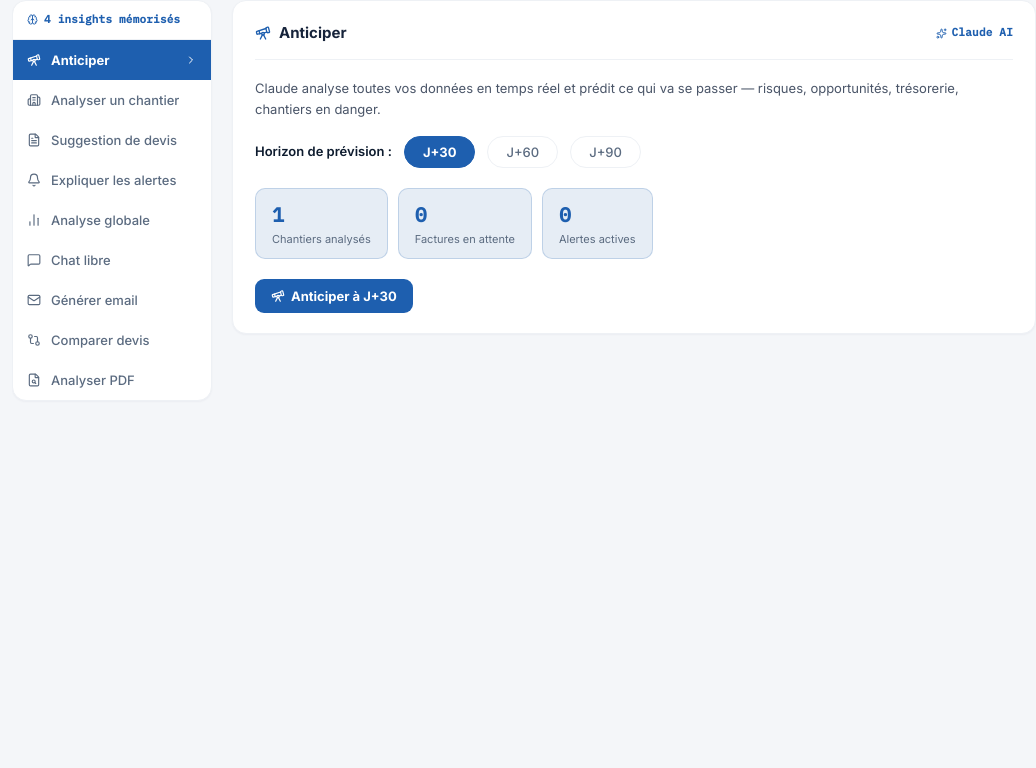
plafond HTTP › mémoire inchangée après condensation refusée
The image size is (1036, 768).
Step 1. Click the button "Chat libre" → (112,260), box [13,240,211,280]
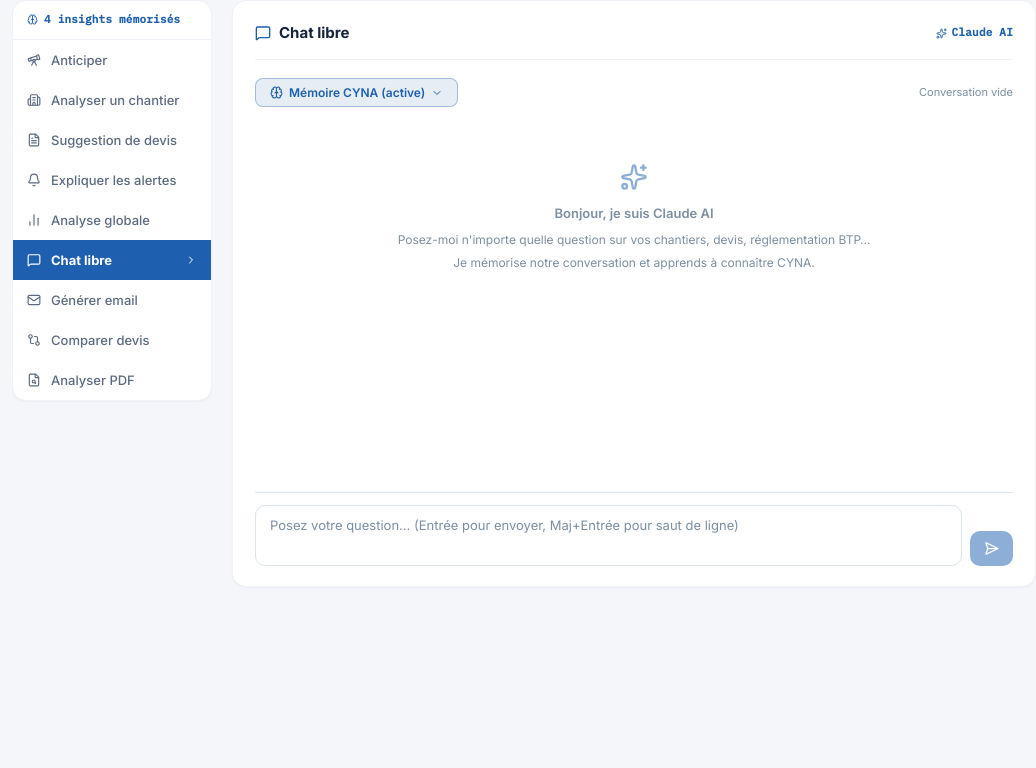
Step 2. Click the button "Mémoire CYNA (active)" → (357,92), box [255,78,458,107]
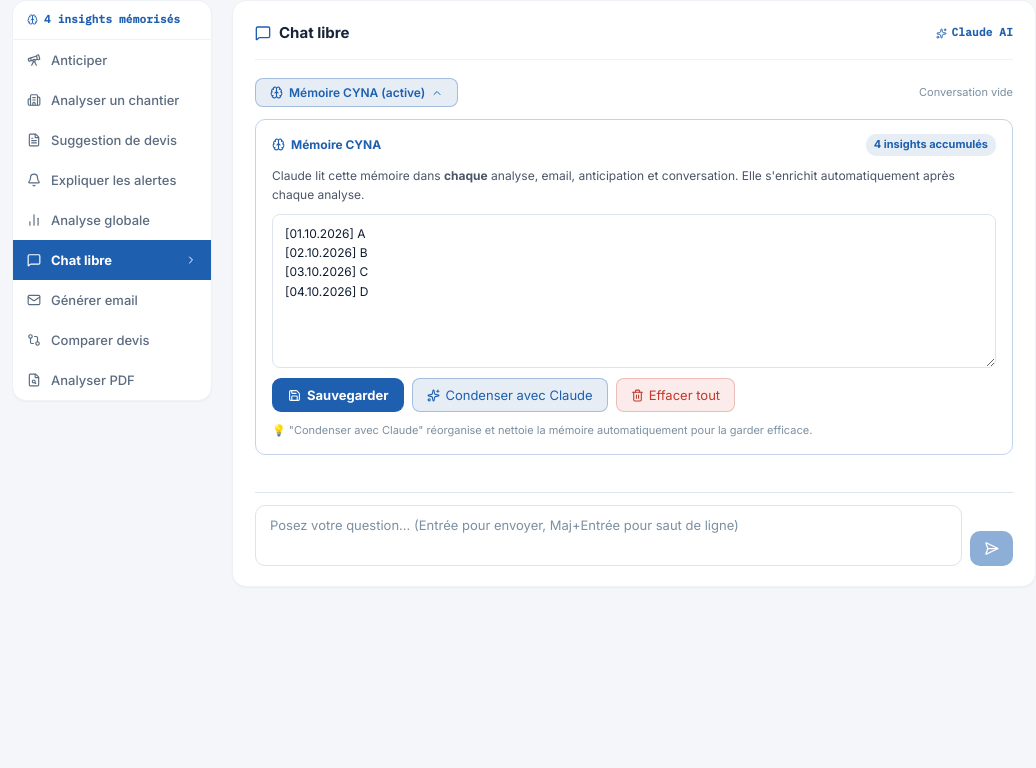
Step 3. Click the button "Condenser avec Claude" → (510,395), box [412,378,608,412]
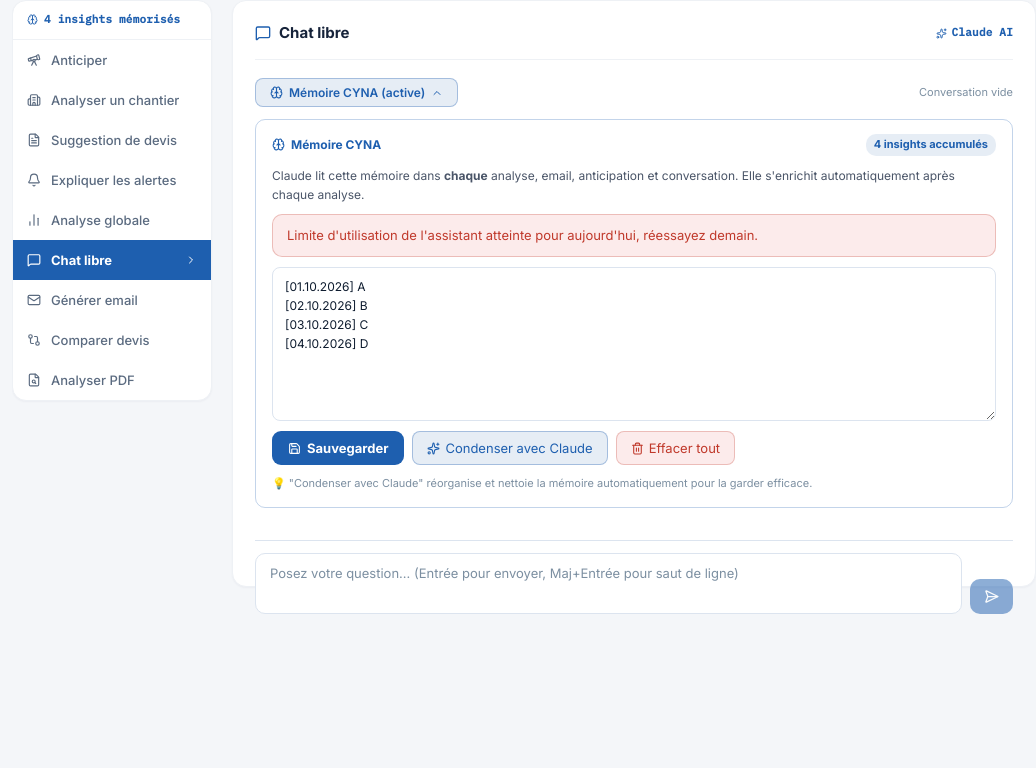
Expected: the text "Limite d'utilisation de l'assistant atteinte pour aujourd'hui, réessayez demain." is shown, [272,214,996,257]
